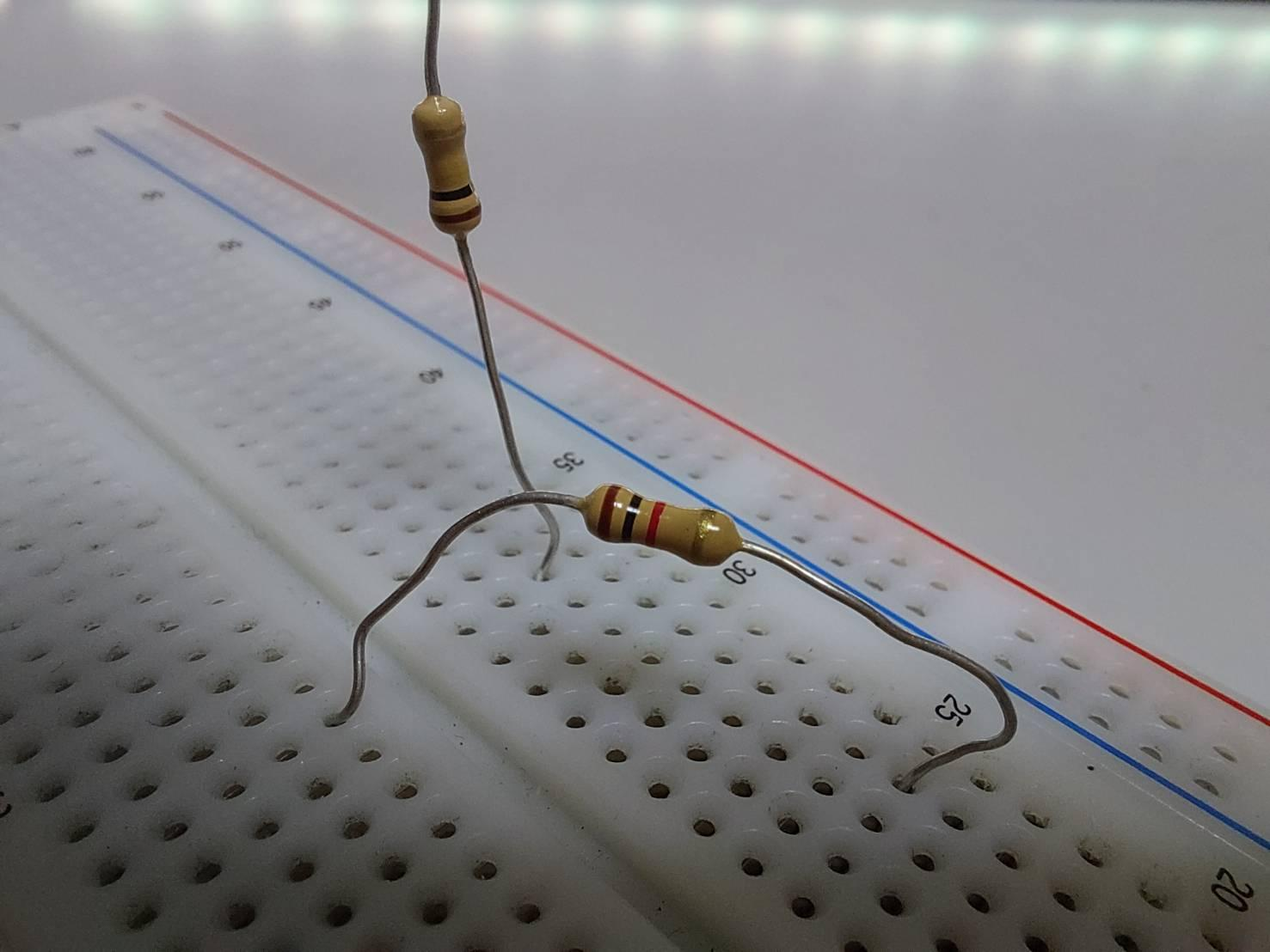resistor: (571, 480, 757, 571), (403, 88, 491, 241)
